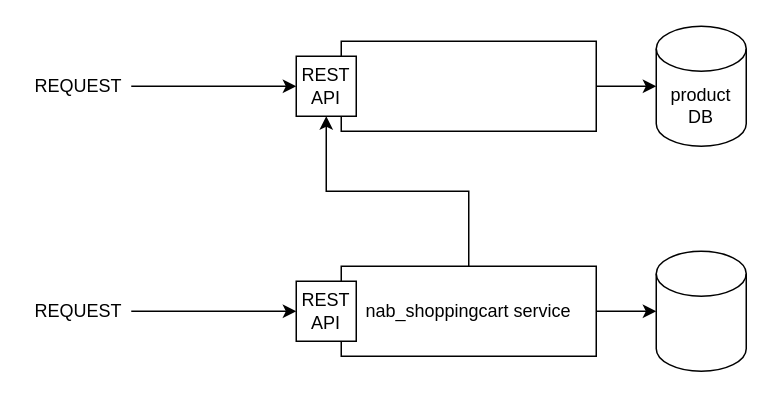
This 773x398 diagram has some shape labels left out. Each missing label, with the box of its shape:
nab_product service: (340, 40, 596, 131)
shopping cart DB: (655, 250, 746, 371)
